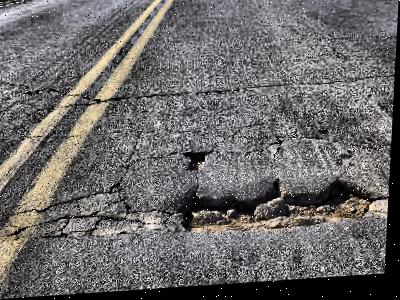pothole: (173, 175, 382, 239), (182, 151, 211, 175)
